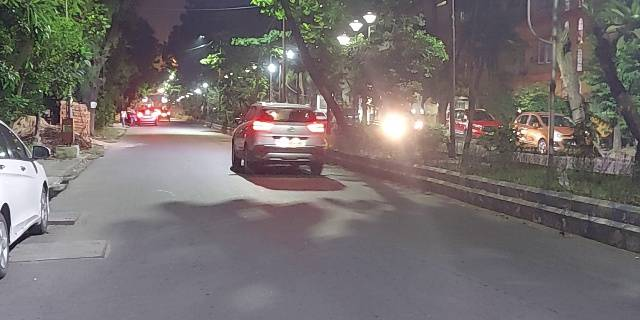Car: (231, 102, 325, 174)
